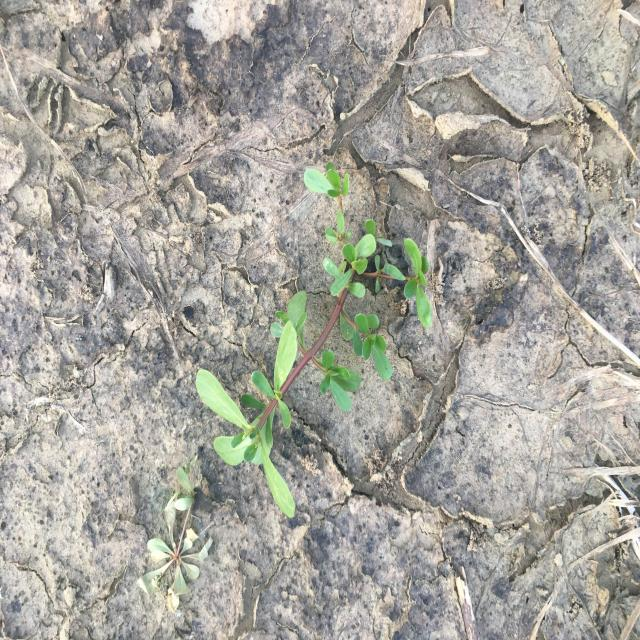Carpetweed: (135, 452, 214, 617)
Purslane: (194, 160, 434, 518)
